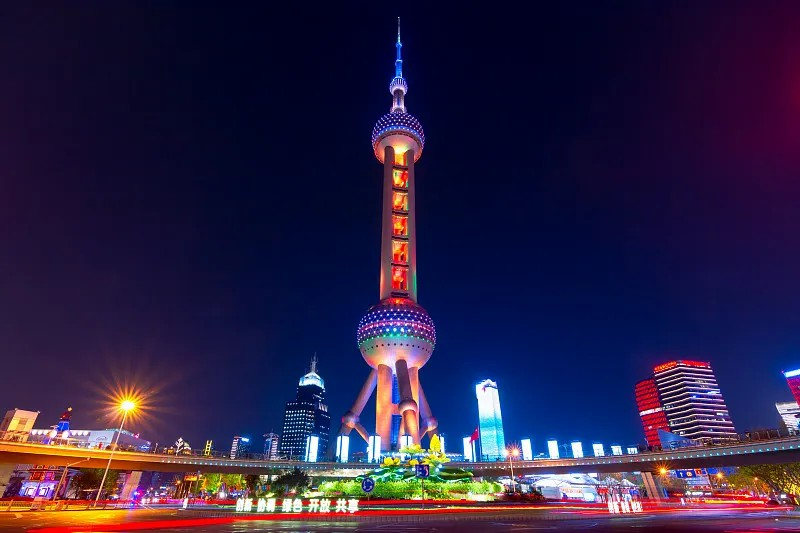Oriental: (337, 15, 438, 448)
